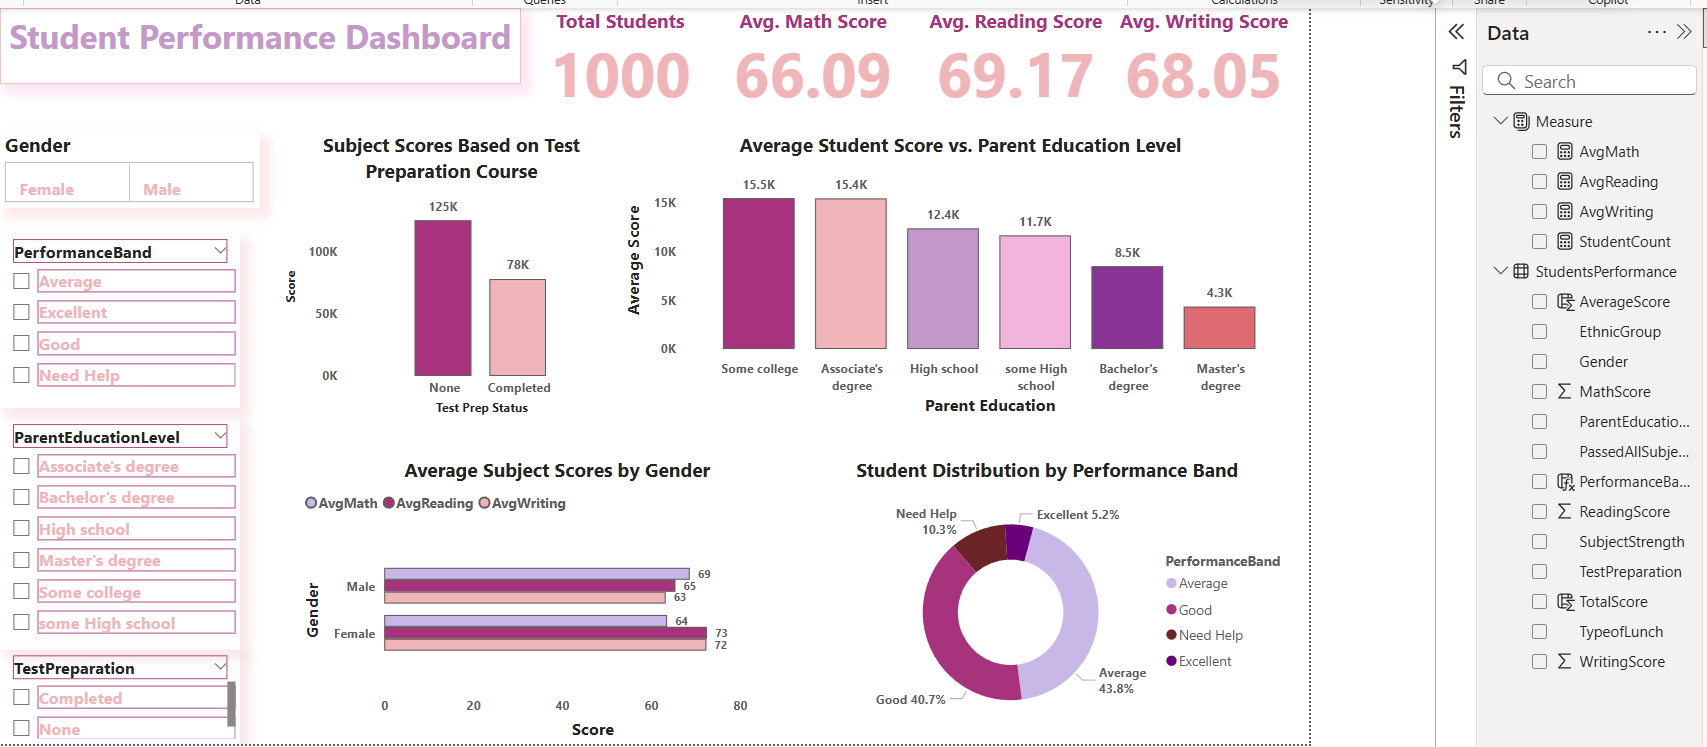

The dashboard page shown, as its layout file describes it:
{"tool":"powerbi","page":{"name":"Page 1","canvas":[1280,720],"ordinal":0},"visuals":[{"type":"clusteredColumnChart","title":"Average Student Score vs. Parent Education Level","fields":{"Category":["StudentsPerformance.ParentEducationLevel"],"Y":["Sum(StudentsPerformance.AverageScore)"]},"box":[608.2,120.7,663.7,282.4],"z":0},{"type":"clusteredBarChart","title":"Average Subject Scores by Gender","fields":{"Category":["StudentsPerformance.Gender"],"Y":["Measure.AvgMath","Measure.AvgReading","Measure.AvgWriting"]},"box":[293.8,439.2,503.2,280.7],"z":0},{"type":"card","title":"Total Students ","fields":{"Values":["Measure.StudentCount"]},"box":[526.1,0,162,97.2],"z":1000,"group":"g1"},{"type":"donutChart","title":"Student Distribution by Performance Band","fields":{"Y":["Measure.StudentCount"],"Category":["StudentsPerformance.PerformanceBand"]},"box":[832.6,439.2,439.2,279.9],"z":1000},{"type":"card","title":"Avg. Math Score ","fields":{"Values":["Measure.AvgMath"]},"box":[702.5,0,187.2,97.2],"z":2000,"group":"g1"},{"type":"clusteredColumnChart","title":"Subject Scores Based on Test Preparation Course","fields":{"Category":["StudentsPerformance.TestPreparation"],"Y":["Sum(StudentsPerformance.AverageScore)"]},"box":[274.9,120.7,333,282.1],"z":2000},{"type":"textbox","box":[0,0,509.6,74.3],"z":3000},{"type":"card","title":"Avg. Reading Score","fields":{"Values":["Measure.AvgReading"]},"box":[904.1,0,180,97.2],"z":3000,"group":"g1"},{"type":"card","title":"Avg. Writing Score","fields":{"Values":["Measure.AvgWriting"]},"box":[1084,0,189,97.2],"z":4000,"group":"g1"},{"type":"group","id":"g1","title":"Group 1","box":[526.1,0,746.9,97.2],"z":4001},{"type":"advancedSlicerVisual","fields":{"Values":["StudentsPerformance.Gender"]},"box":[0,120.7,254.5,74.2],"z":4002},{"type":"slicer","fields":{"Values":["StudentsPerformance.PerformanceBand"]},"box":[0,221,235.6,170.1],"z":4003},{"type":"slicer","fields":{"Values":["StudentsPerformance.ParentEducationLevel"]},"box":[0,402.8,235.6,225.4],"z":4004},{"type":"slicer","fields":{"Values":["StudentsPerformance.TestPreparation"]},"box":[0,628.2,235.6,91.6],"z":4005}]}

Visuals, with their boxes on the page's 1280x720 design canvas (x1, y1, x2, y2). These are canvas units, not pixel positions in the 1707x747 screenshot, which may show the page scaled, cropped or inside an application window:
"Average Student Score vs. Parent Education Level" clusteredColumnChart: BBox(608, 121, 1272, 403)
"Average Subject Scores by Gender" clusteredBarChart: BBox(294, 439, 797, 720)
"Total Students " card: BBox(526, 0, 688, 97)
"Student Distribution by Performance Band" donutChart: BBox(833, 439, 1272, 719)
"Avg. Math Score " card: BBox(702, 0, 890, 97)
"Subject Scores Based on Test Preparation Course" clusteredColumnChart: BBox(275, 121, 608, 403)
textbox: BBox(0, 0, 510, 74)
"Avg. Reading Score" card: BBox(904, 0, 1084, 97)
"Avg. Writing Score" card: BBox(1084, 0, 1273, 97)
"Group 1" group: BBox(526, 0, 1273, 97)
advancedSlicerVisual - StudentsPerformance.Gender: BBox(0, 121, 254, 195)
slicer - StudentsPerformance.PerformanceBand: BBox(0, 221, 236, 391)
slicer - StudentsPerformance.ParentEducationLevel: BBox(0, 403, 236, 628)
slicer - StudentsPerformance.TestPreparation: BBox(0, 628, 236, 720)
